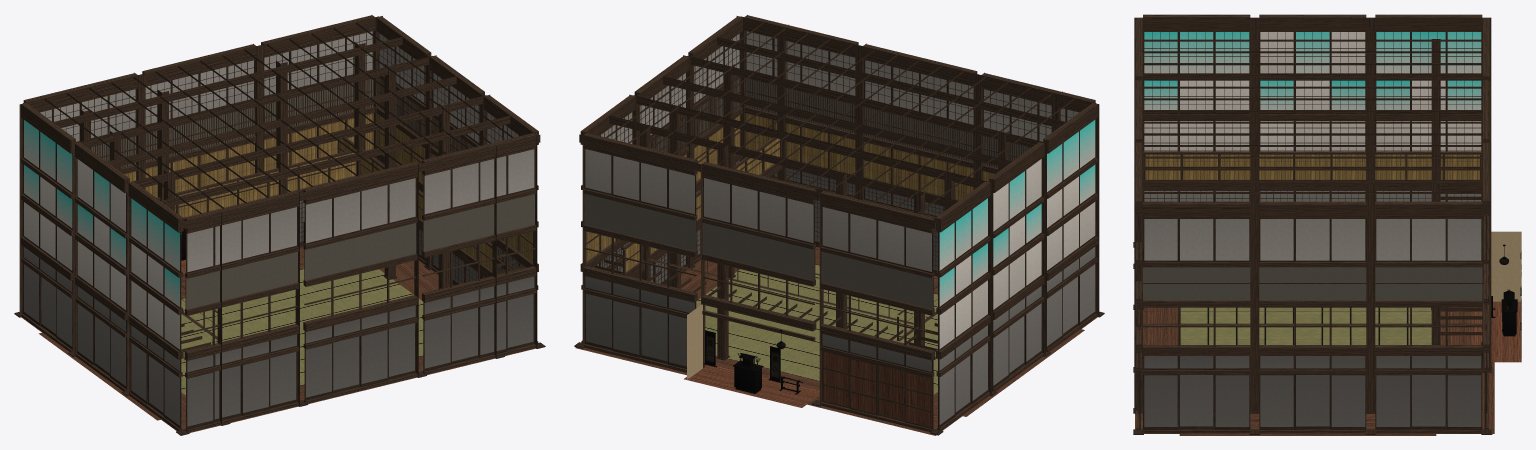
File: dojo.glb
3 renders of one model, left to right at view 1: azimuth 30°, elevation 25°; view 2: azimuth 150°, elevation 25°; view 3: azimuth 270°, elevation 25°, orthographic. The views are drawn at different scales.
Parts seen in each view (by area): view 1: Wood, Paper, Reed, Tatami; view 2: Wood, Paper, Tatami, Reed, Props, Plaster; view 3: Wood, Paper, Tatami, Reed, Plaster, Props.
Boxes of the visible parts, x1,y1,x2,y2 form: Wood: (14,15,545,435); Paper: (24,31,534,426); Reed: (124,113,532,271); Tatami: (181,269,423,395); Wood: (574,15,1104,435); Paper: (584,31,1095,424); Tatami: (696,264,937,394); Reed: (586,113,994,272); Props: (703,328,802,394); Plaster: (687,304,702,379); Wood: (1133,14,1521,435); Paper: (1143,32,1482,426); Tatami: (1179,307,1431,344); Reed: (1143,154,1479,179); Plaster: (1491,231,1521,301); Props: (1481,244,1521,357).
Size of the model in its own units: 14.49 by 8 by 12.27.
Materials: 6 (6 with a texture image).
